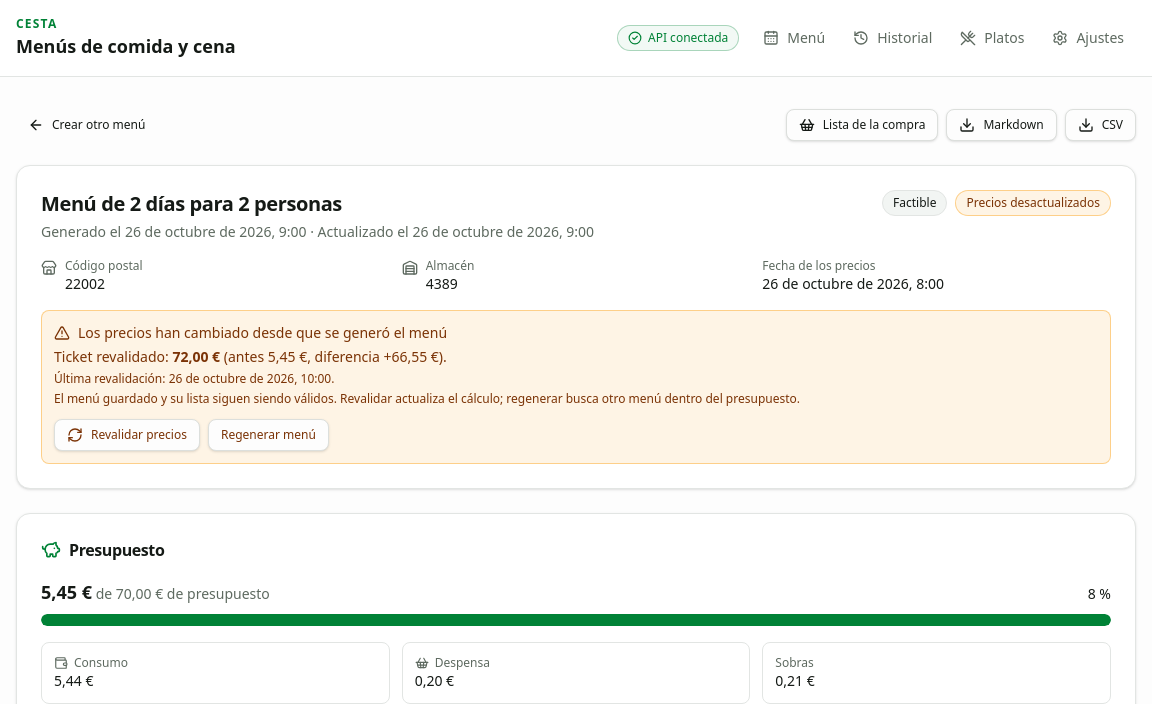
it: MenuDetailPage › muestra el banner stale y permite revalidar
Expected: the text "Los precios han cambiado desde que se generó el menú" is shown, [54,323,447,342]
Expected: the text "Ticket revalidado" shows "72,00", [172,347,220,366]
Click the button "Revalidar precios" at (127, 435), box [54,419,200,451]
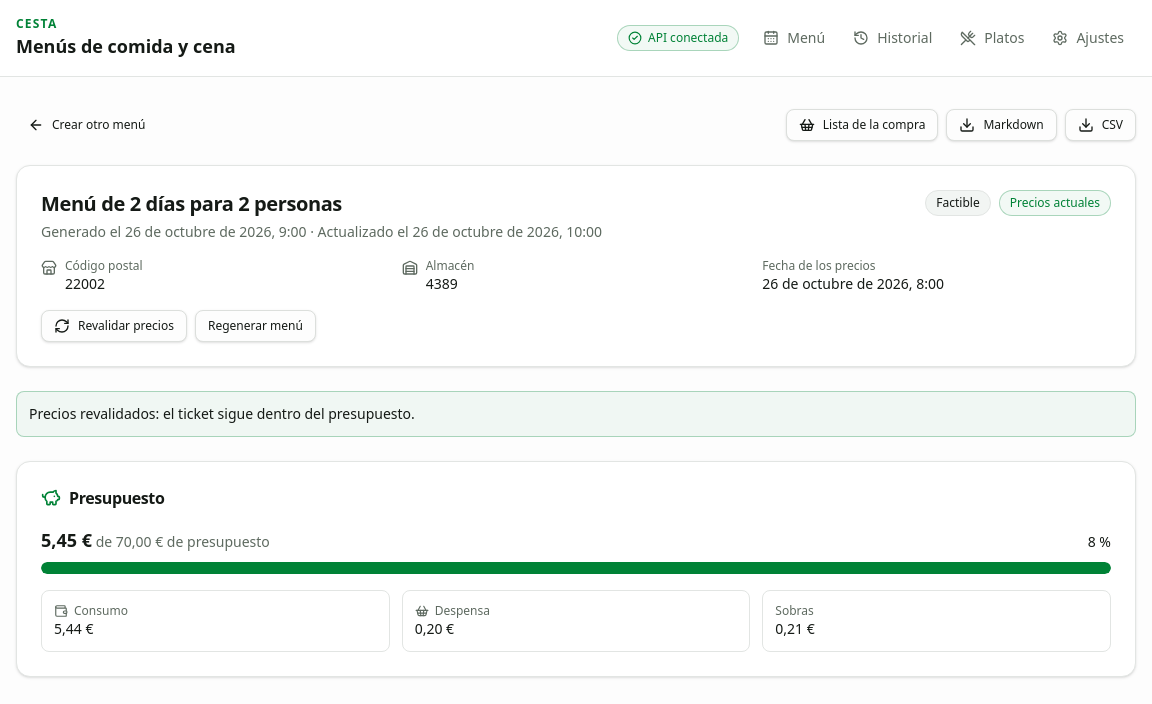
Now the text "Los precios han cambiado desde que se generó el menú" is gone
Now the text "Precios revalidados: el ticket sigue dentro del presupuesto." is shown, box [16,391,1136,437]
